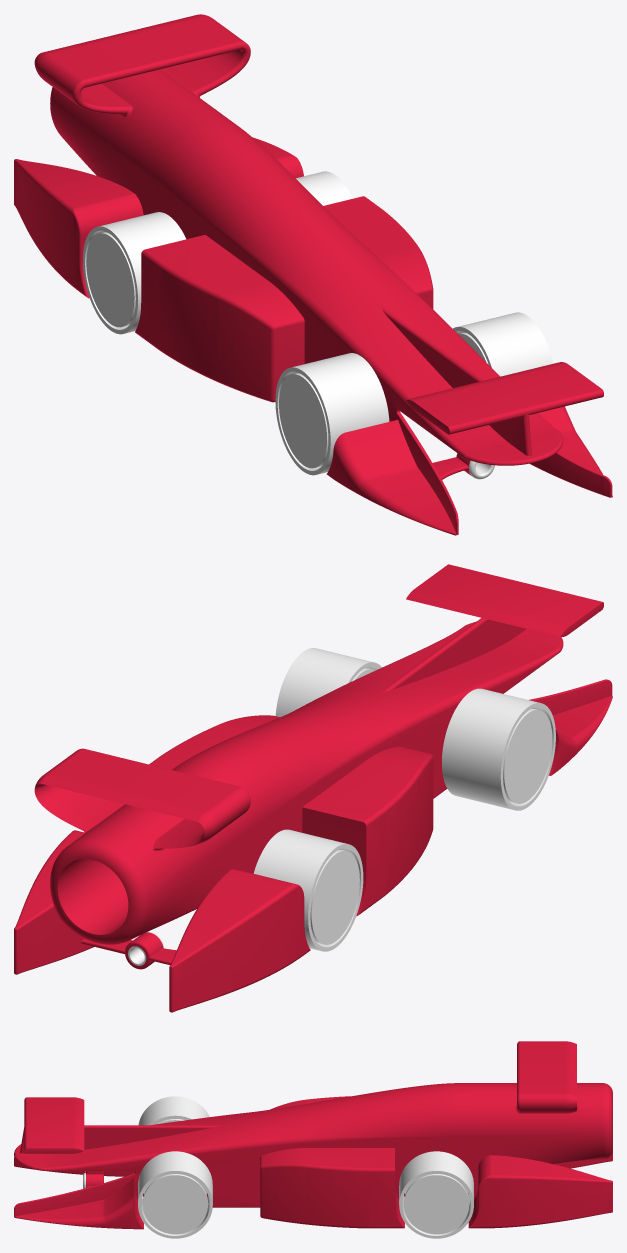
3 views of the same model, one above another, from view 1: azimuth 30°, elevation 25°; view 2: azimuth 150°, elevation 25°; view 3: azimuth 270°, elevation 25° (orthographic). The views are drawn at different scales.
Visible parts, largest first — view 1: 10 P2.3 Assembly, 10 P2.3 Assembly.002, 10 P2.3 Assembly.004, 10 P2.3 Assembly.001, 10 P2.3 Assembly.003; view 2: 10 P2.3 Assembly, 10 P2.3 Assembly.002, 10 P2.3 Assembly.004, 10 P2.3 Assembly.001; view 3: 10 P2.3 Assembly, 10 P2.3 Assembly.003, 10 P2.3 Assembly.001, 10 P2.3 Assembly.002.
Boxes of the visible parts, x1,y1,x2,y2 form: 10 P2.3 Assembly: (14, 14, 612, 535); 10 P2.3 Assembly.002: (275, 353, 389, 475); 10 P2.3 Assembly.004: (83, 212, 185, 334); 10 P2.3 Assembly.001: (453, 312, 553, 376); 10 P2.3 Assembly.003: (296, 171, 352, 205); 10 P2.3 Assembly: (14, 564, 612, 1012); 10 P2.3 Assembly.002: (442, 688, 555, 810); 10 P2.3 Assembly.004: (253, 829, 363, 951); 10 P2.3 Assembly.001: (275, 648, 381, 717); 10 P2.3 Assembly: (14, 1041, 612, 1229); 10 P2.3 Assembly.003: (399, 1151, 473, 1238); 10 P2.3 Assembly.001: (138, 1151, 212, 1238); 10 P2.3 Assembly.002: (138, 1096, 209, 1125).
Size of the model in its own units: 11.15 by 9.34 by 37.88.
